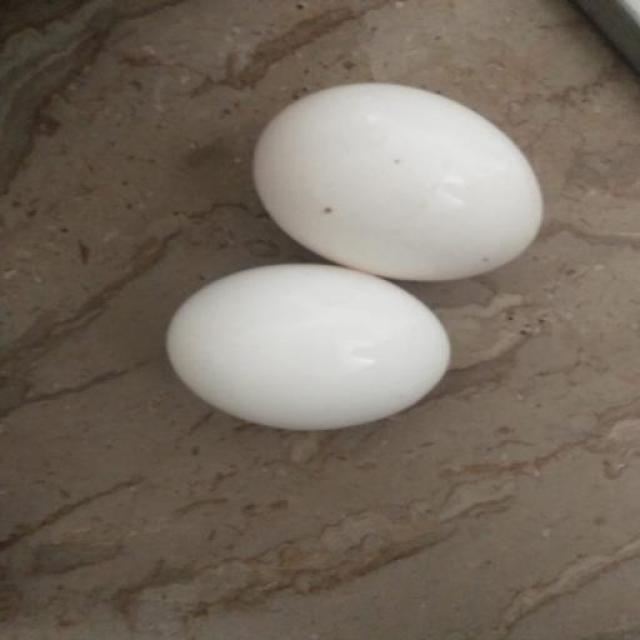telur: (256, 83, 542, 280), (168, 264, 450, 430)
